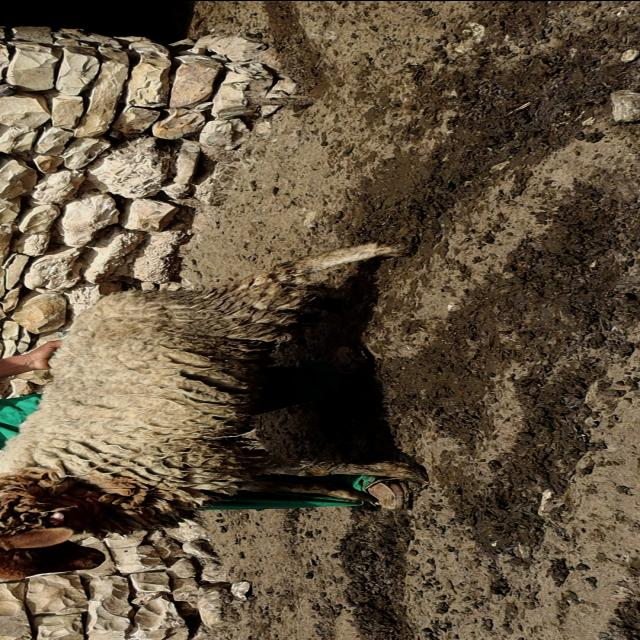Score_2: (0, 242, 424, 579)
